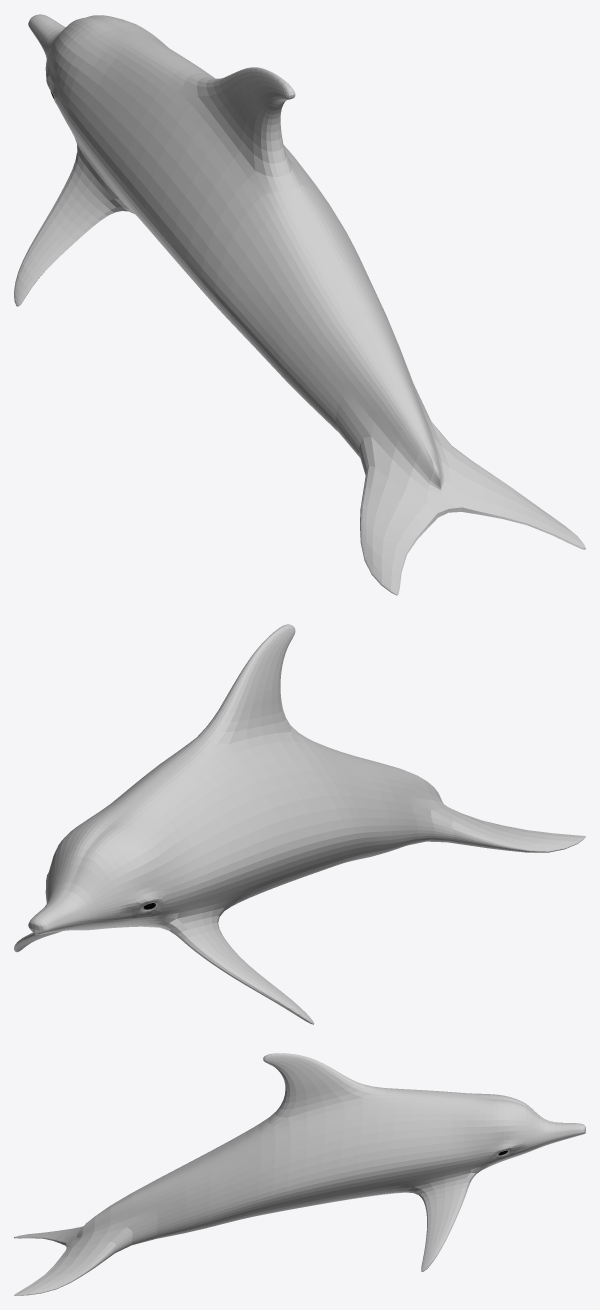
File: dolphin.obj
3 views of the same model, one above another, from view 1: azimuth 30°, elevation 25°; view 2: azimuth 150°, elevation 25°; view 3: azimuth 270°, elevation 25° (orthographic). The views are drawn at different scales.
Parts seen in each view (by area): view 1: dolphin:Plane001; view 2: dolphin:Plane001; view 3: dolphin:Plane001.
Part boxes in pixels (x1,y1,x2,y2): dolphin:Plane001: (14, 14, 585, 595); dolphin:Plane001: (14, 624, 585, 1024); dolphin:Plane001: (14, 1053, 585, 1295).
Bounding box in the file's own units: 20.81 × 22.71 × 55.17.
